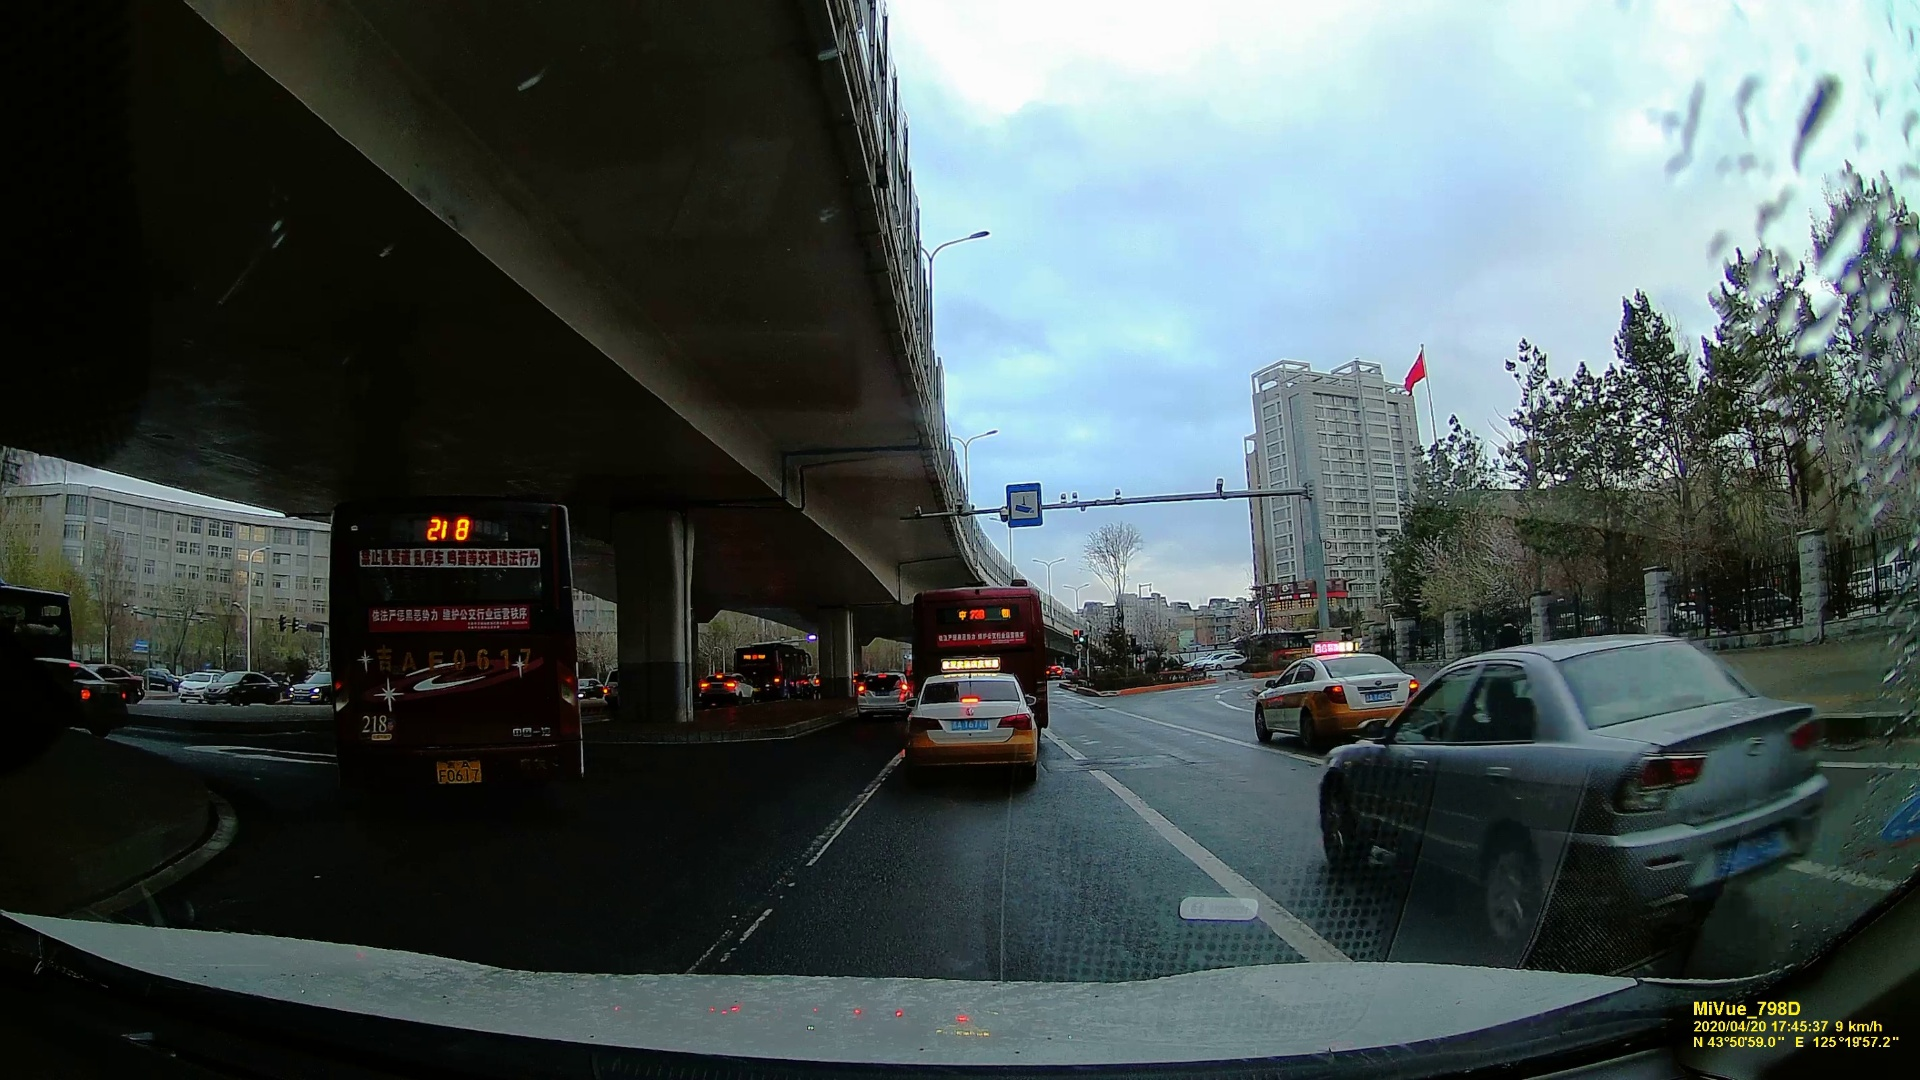bus: (326, 489, 575, 782), (909, 588, 1043, 727), (731, 645, 808, 698)
traffic_sign: (1004, 485, 1040, 524), (1072, 629, 1084, 646)
vehicle: (1316, 624, 1815, 945), (899, 663, 1040, 781), (1255, 649, 1411, 749), (36, 653, 128, 731), (167, 669, 290, 707), (853, 671, 909, 717), (700, 675, 753, 705), (574, 678, 608, 703)
